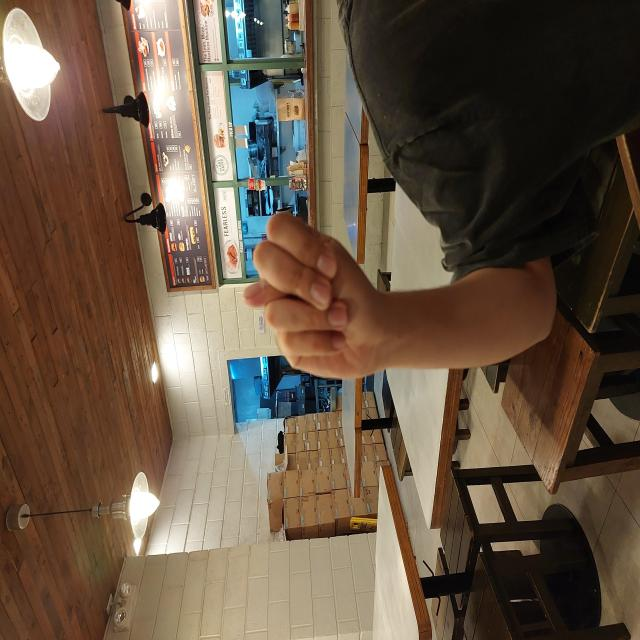N: (258, 241, 430, 386)
